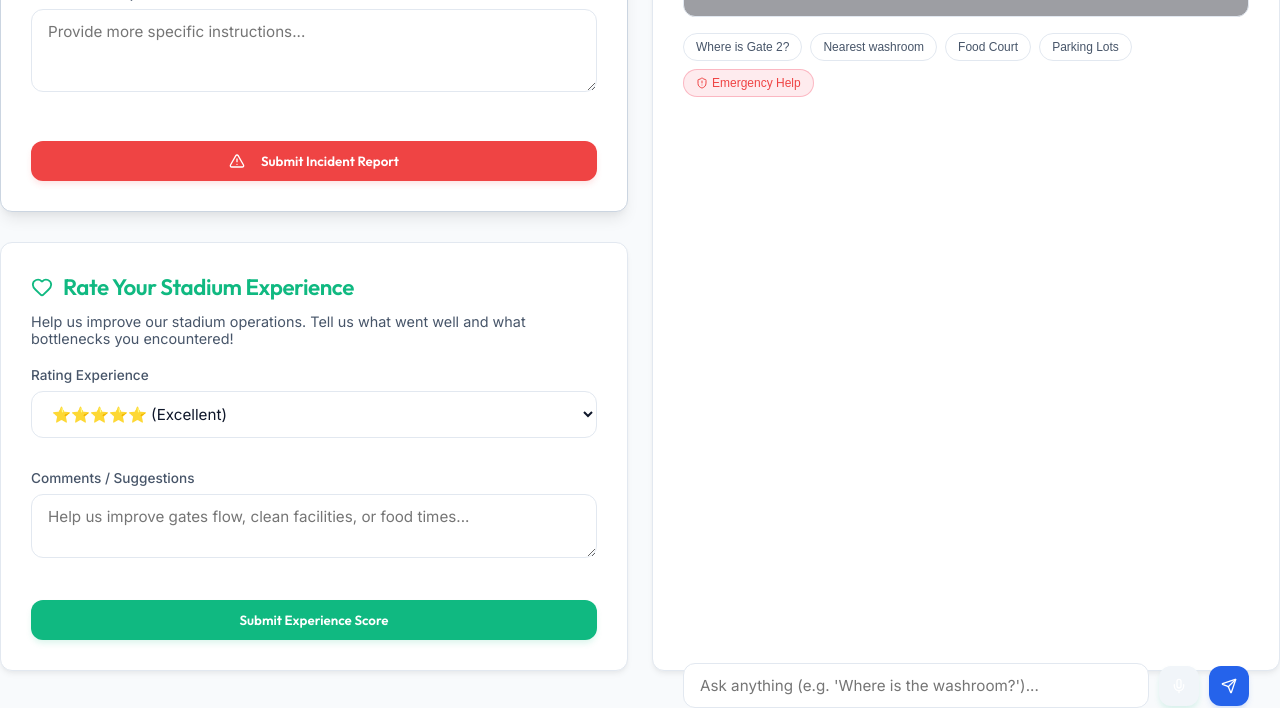
Test: StadiumAssist Jest Test Suite › 1. FanAssistant Knowledge-Base Fallback Logic › uses loose FAQ matching fallback when askGenie API fails
(page scrolled)
Note: Query has "food" which loosely matches "food concession"
Step 1. Type "Where can I find some food?" into the field named "Chat input query" → [916, 686], box [683,663,1149,707]
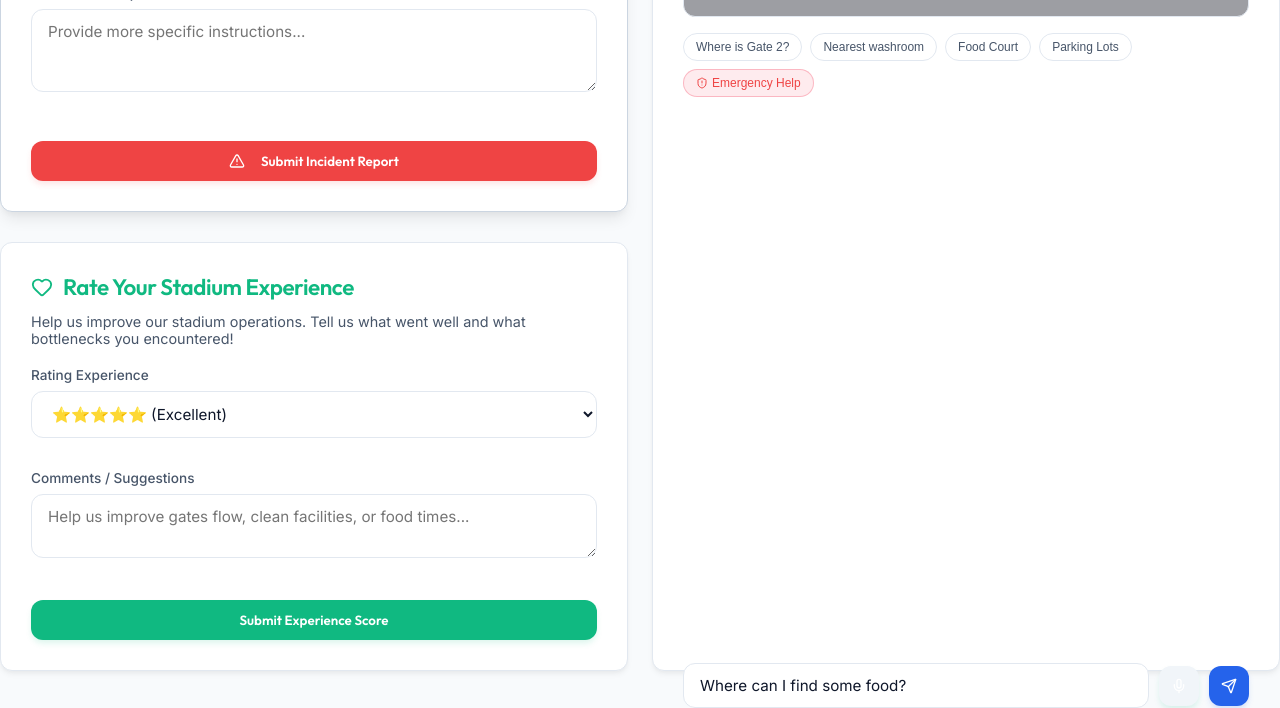
Step 2. Click the button named "Send message" → [1229, 686], box [1209,666,1249,706]
(page scrolled)
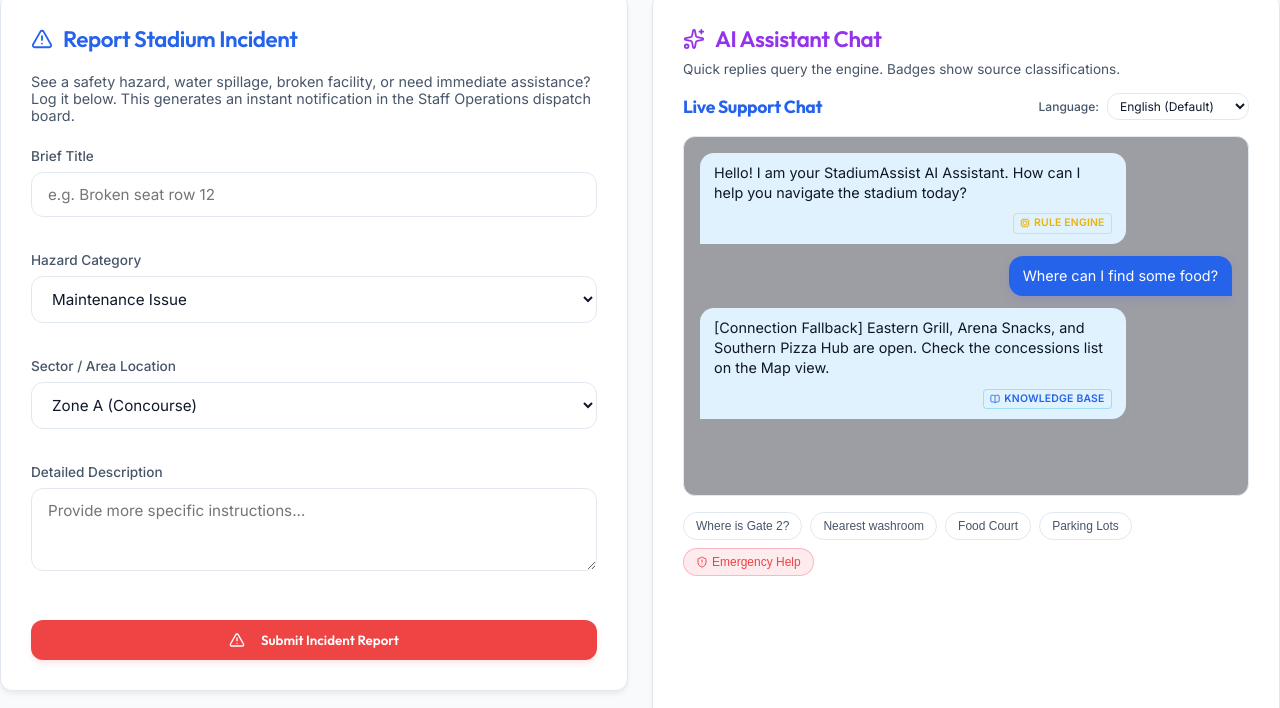
Expected: the text "Eastern Grill, Arena Snacks, and Southern Pizza Hub are open" is shown, [714,319,1103,376]
